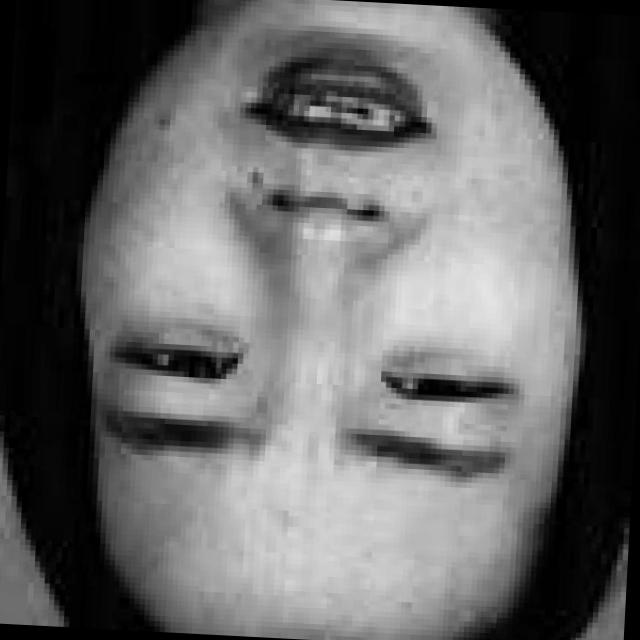disgust: (89, 0, 566, 593)
